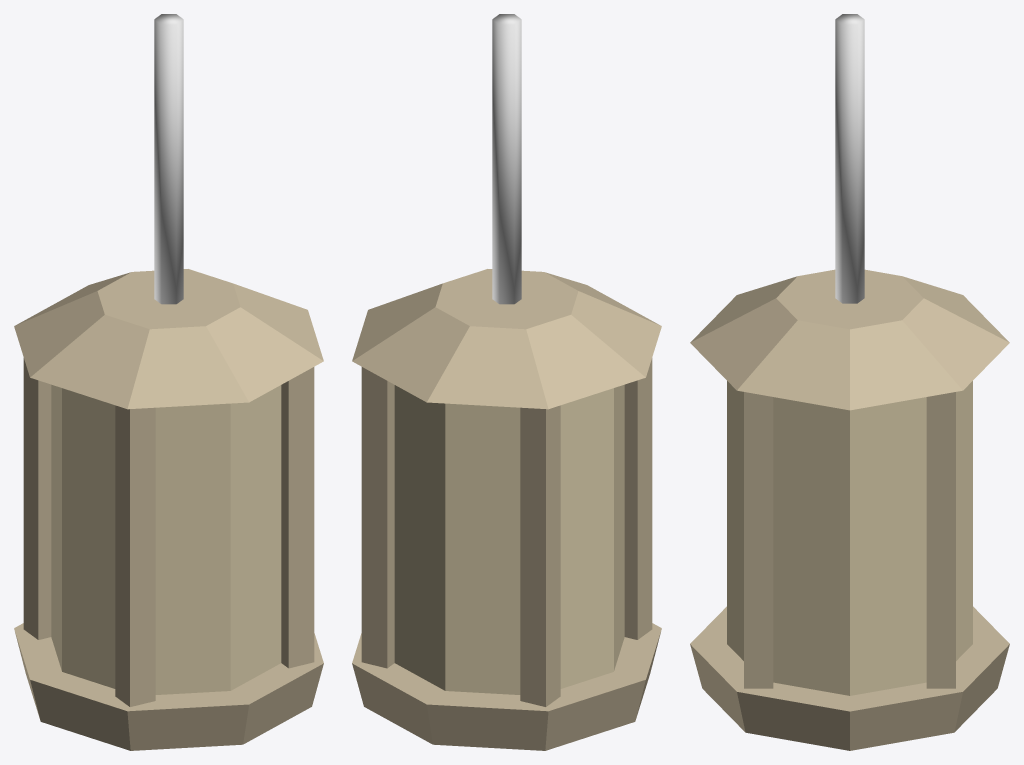
File: boreal_lantern_v0.glb
3 views of the same model, side by side, from view 1: azimuth 30°, elevation 25°; view 2: azimuth 150°, elevation 25°; view 3: azimuth 270°, elevation 25° (orthographic).
Visible parts, largest first — view 1: boreal_lantern_v0; view 2: boreal_lantern_v0; view 3: boreal_lantern_v0.
Boxes of the visible parts, left/top/right/bottom form: boreal_lantern_v0: left=14, top=14, right=323, bottom=750; boreal_lantern_v0: left=352, top=14, right=661, bottom=750; boreal_lantern_v0: left=690, top=14, right=1009, bottom=750.
Bounding box in the file's own units: 0.26 × 0.6 × 0.26.
